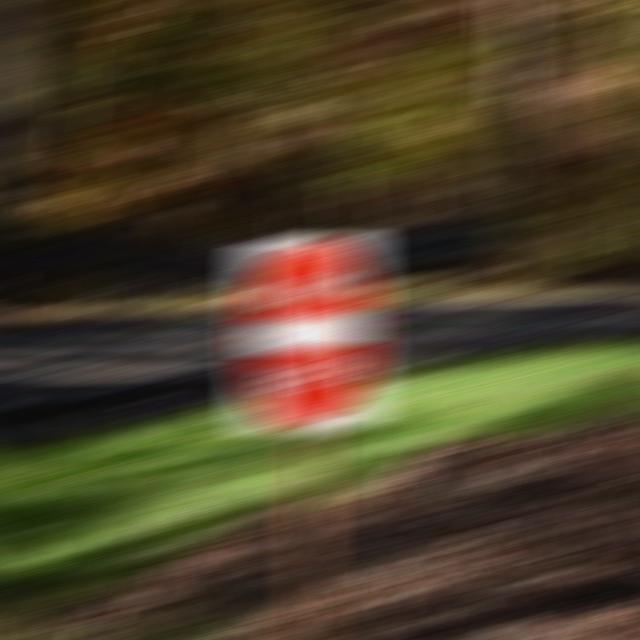doNotEnter: (236, 238, 380, 428)
